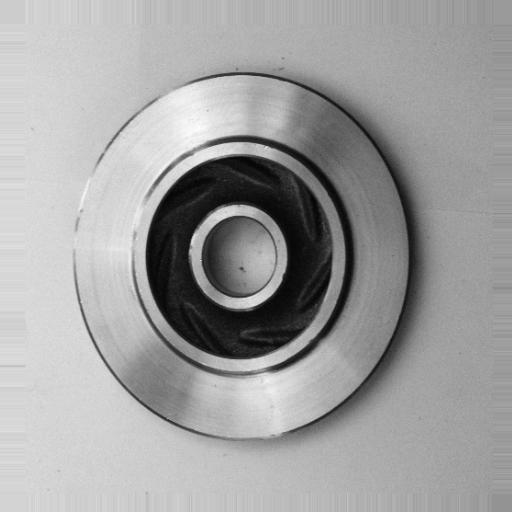scratch: (60, 169, 113, 263)
unpolished_casting: (67, 70, 418, 444)
